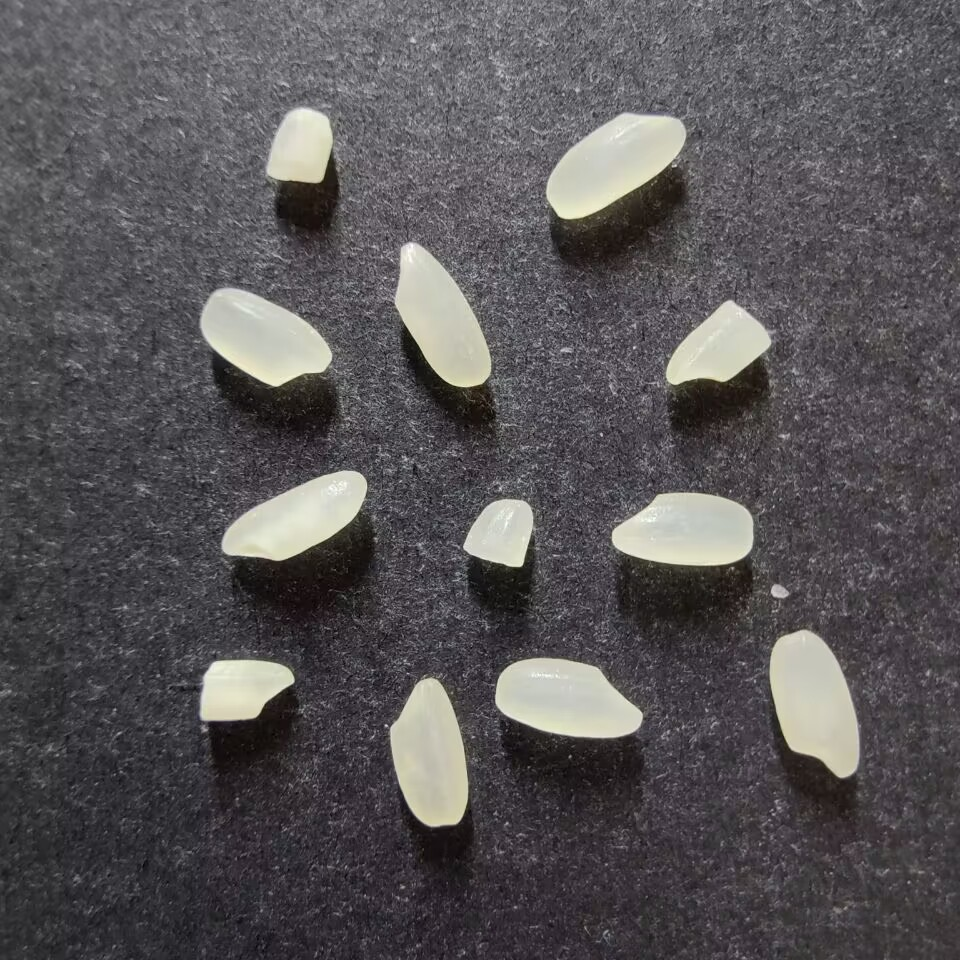broken: (664, 299, 772, 385), (198, 658, 294, 723), (265, 108, 333, 184), (461, 498, 534, 568)
rice: (545, 112, 686, 220), (392, 241, 492, 388), (768, 629, 861, 779), (220, 469, 368, 561), (198, 286, 332, 387), (493, 657, 643, 740), (388, 677, 469, 828), (610, 491, 754, 566)
